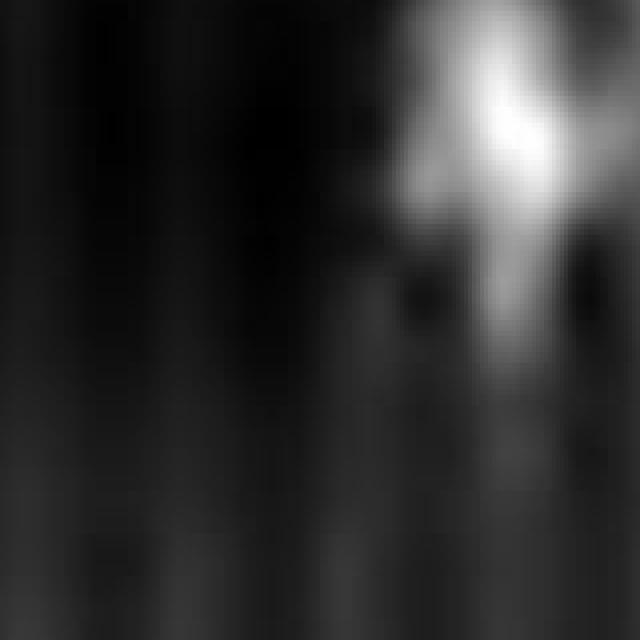person: (413, 1, 613, 406)
